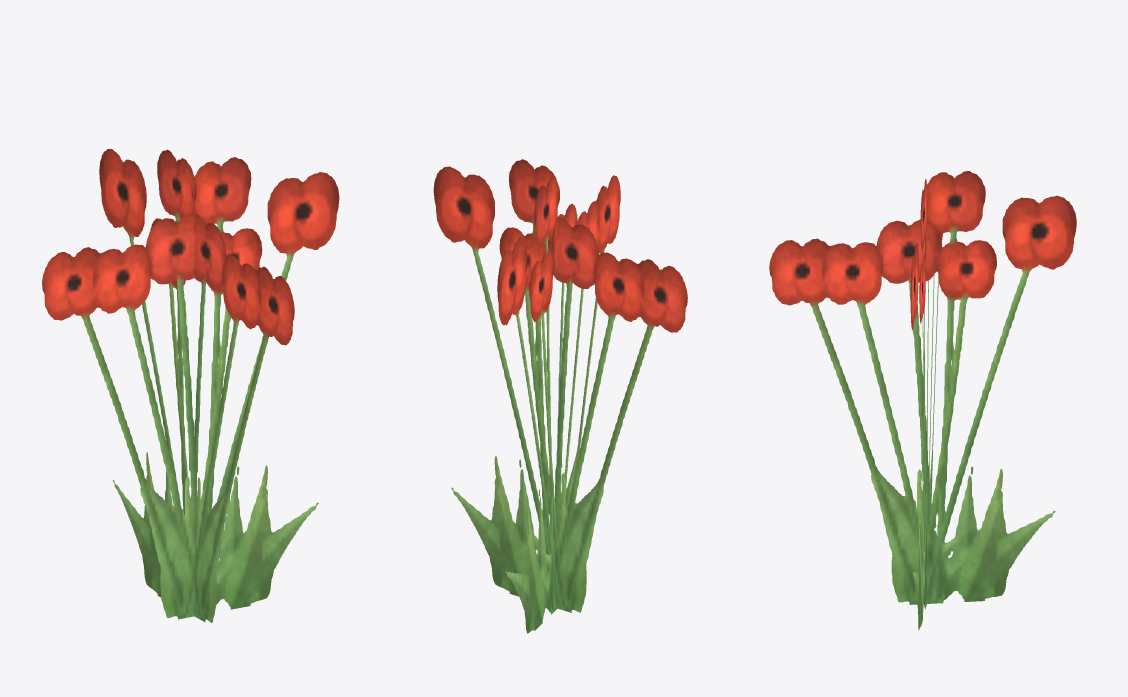
File: flower_poppy.glb
The picture shows the model from 3 angles, left to right: view 1: azimuth 30°, elevation 25°; view 2: azimuth 150°, elevation 25°; view 3: azimuth 270°, elevation 25°; orthographic projection. The views are drawn at different scales.
Parts seen in each view (by area): view 1: flower_poppy; view 2: flower_poppy; view 3: flower_poppy.
Part boxes in pixels (x1,y1,x2,y2): flower_poppy: (42, 149, 339, 622); flower_poppy: (433, 159, 687, 633); flower_poppy: (769, 171, 1076, 630).
Size of the model in its own units: 0.1988 by 0.3 by 0.1985.
1 material, 1 textured.
